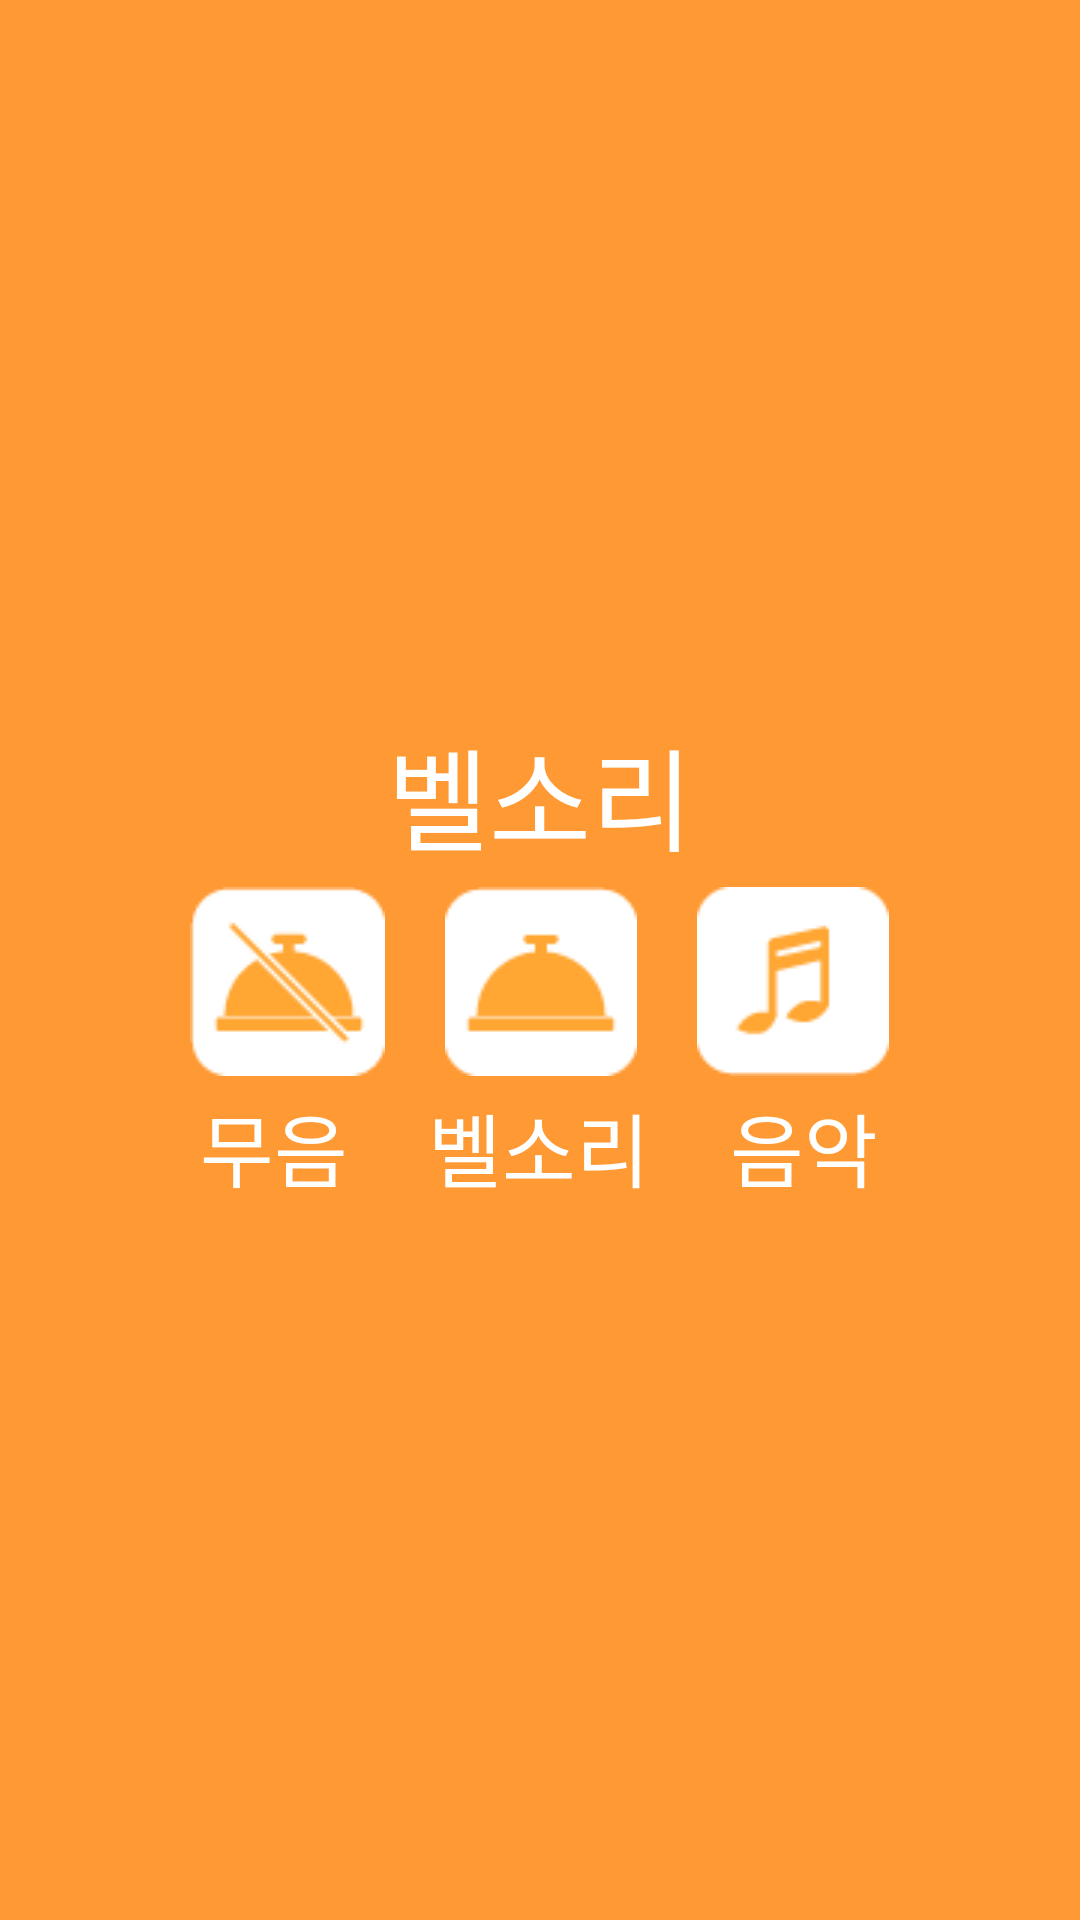

Point at icon controls on the screen. Image size 1080*1920, points as (x,y).
no bell: (287,981)
